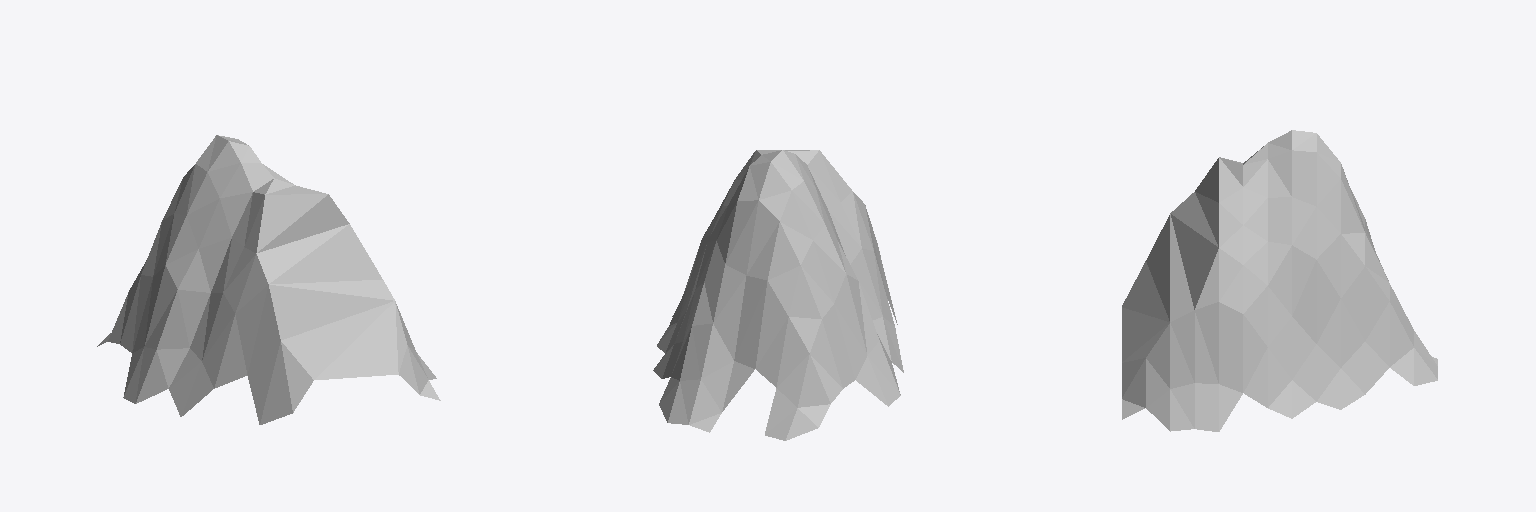
Rendered from tree_29.obj.
3 renders of one model, left to right at view 1: azimuth 30°, elevation 25°; view 2: azimuth 150°, elevation 25°; view 3: azimuth 270°, elevation 25°, orthographic.
Visible parts, largest first — view 1: tree_29.001; view 2: tree_29.001; view 3: tree_29.001.
Part boxes in pixels (x1,y1,x2,y2): tree_29.001: (97,135,440,424); tree_29.001: (653,150,903,440); tree_29.001: (1122,130,1437,431).
Bounding box in the file's own units: 12 × 10.46 × 13.